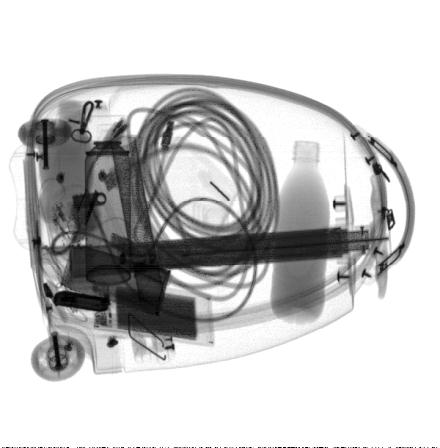Lighter: (53, 290, 109, 312)
Powerbank: (92, 278, 214, 346)
Sprayer: (84, 115, 132, 286)
